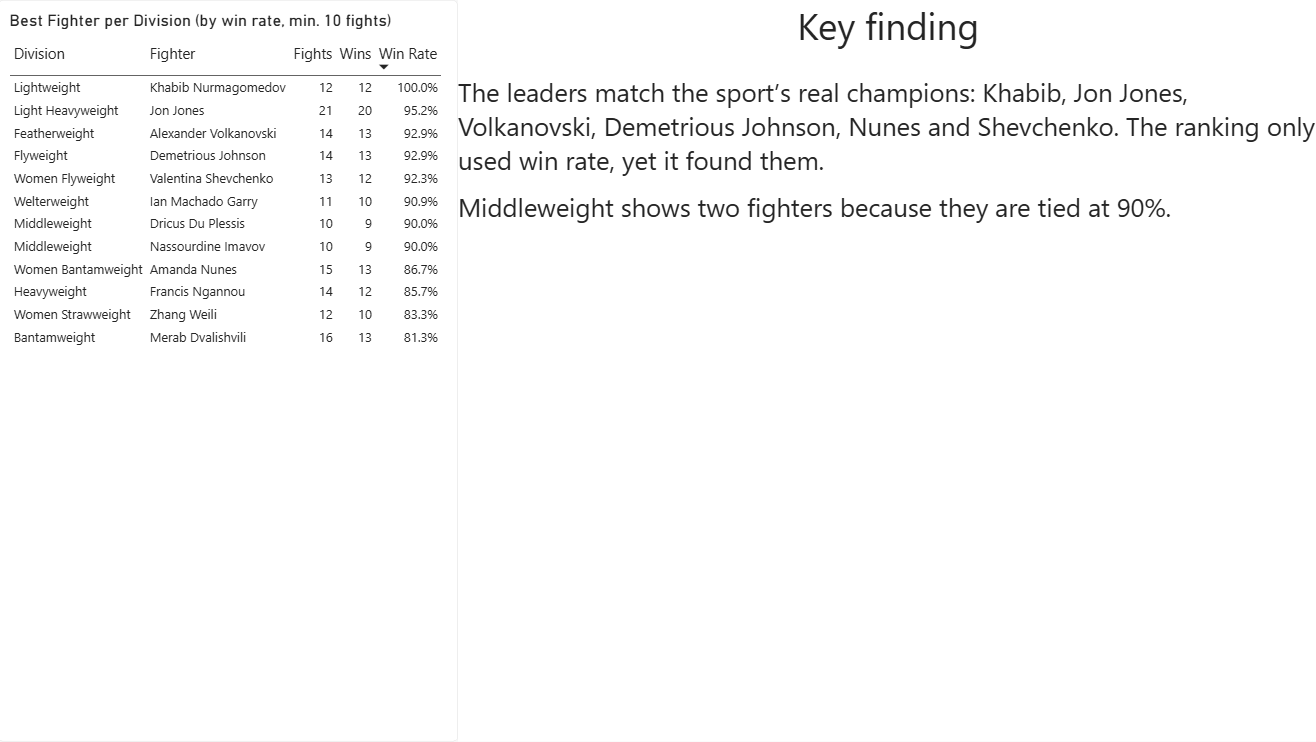

Layout of this report page (visuals, bound fields, positions):
{"tool":"powerbi","page":{"name":"Division Leaders","canvas":[1920,1080],"ordinal":4},"visuals":[{"type":"tableEx","title":"Best Fighter per Division (by win rate, min. 10 fights)","fields":{"Values":["fighter_fights.Division","fighter_fights.Fighter","fighter_fights.Fights","fighter_fights.Wins","fighter_fights.Win Rate"]},"box":[0,0,669.1,1080],"z":0},{"type":"textbox","box":[669.1,0,1250.9,1080],"z":1000}]}

Visuals, with their boxes in screenshot pixels (x1, y1, x2, y2), scaled from the page's 1920x1080 canvas onto the 1316x742 screenshot:
"Best Fighter per Division (by win rate, min. 10 fights)" tableEx: <box>0,0,459,741</box>
textbox: <box>459,0,1315,741</box>
